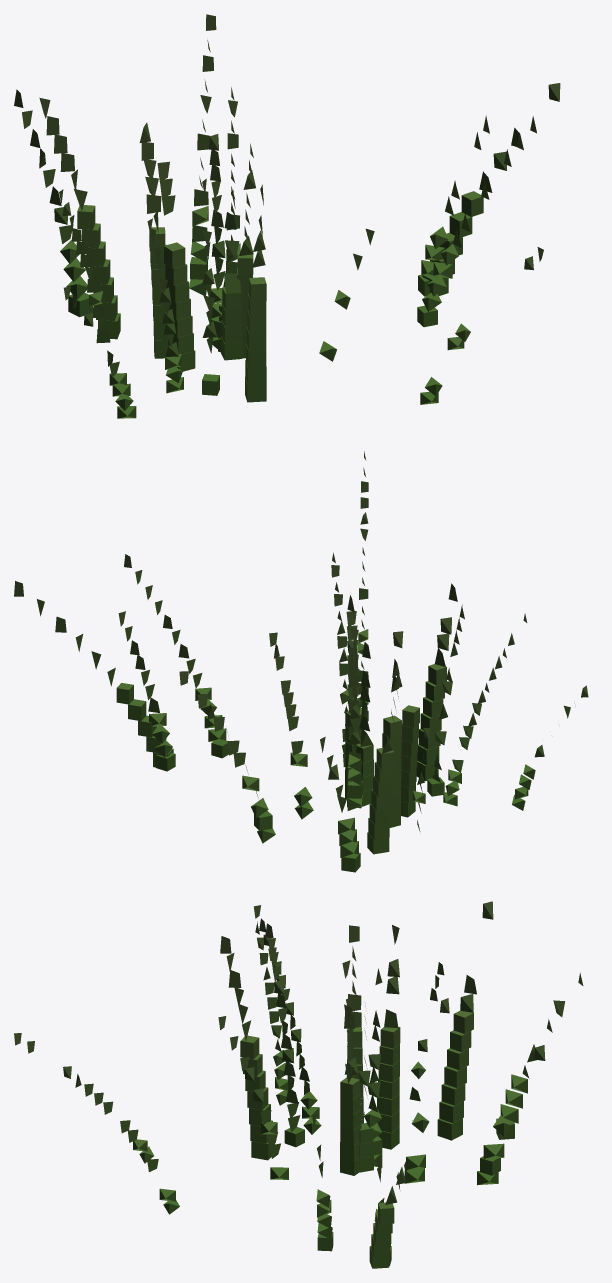
Rendered from grass_c.glb.
3 renders of one model, top to bottom at view 1: azimuth 30°, elevation 25°; view 2: azimuth 150°, elevation 25°; view 3: azimuth 270°, elevation 25°, orthographic. The views are drawn at different scales.
Visible parts, largest first — view 1: GrassC; view 2: GrassC; view 3: GrassC.
Boxes of the visible parts, x1,y1,x2,y2 form: GrassC: (14,14,560,418); GrassC: (14,451,588,872); GrassC: (14,901,583,1268).
Size of the model in its own units: 3.49 by 1.3 by 3.21.
